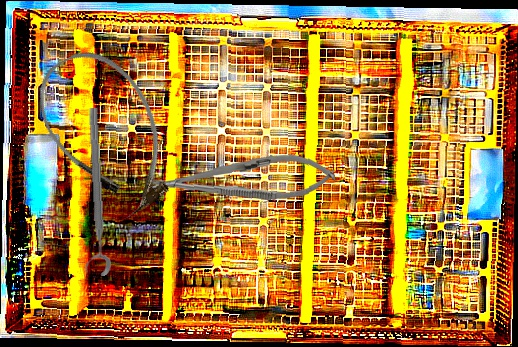Cannula: (20, 34, 194, 231)
Fixation Ring: (74, 107, 112, 277)
Needle Holder: (147, 151, 337, 207)
